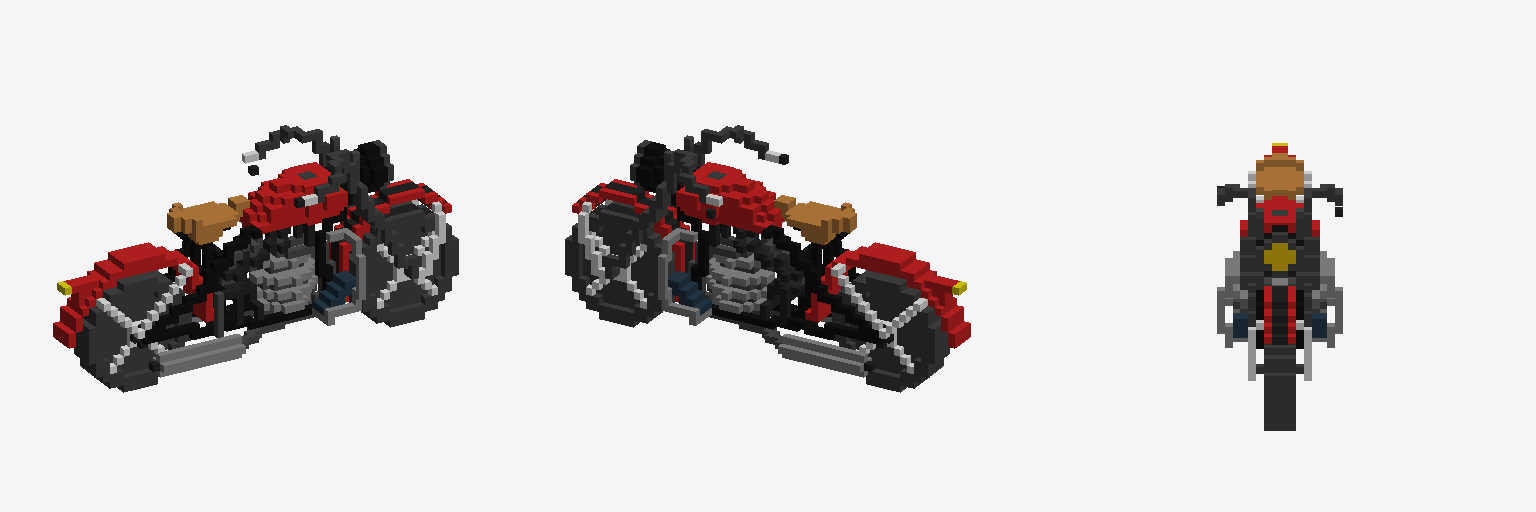
3 views of the same model, side by side, from view 1: azimuth 30°, elevation 25°; view 2: azimuth 150°, elevation 25°; view 3: azimuth 270°, elevation 25° (orthographic).
Parts seen in each view (by area): view 1: Moto:Mesh; view 2: Moto:Mesh; view 3: Moto:Mesh.
Part boxes in pixels (x1,y1,x2,y2): Moto:Mesh: (53, 125, 458, 392); Moto:Mesh: (565, 125, 970, 392); Moto:Mesh: (1217, 143, 1342, 430).
Size of the model in its own units: 5.7 by 2.7 by 1.6.
Materials: 1 (1 with a texture image).